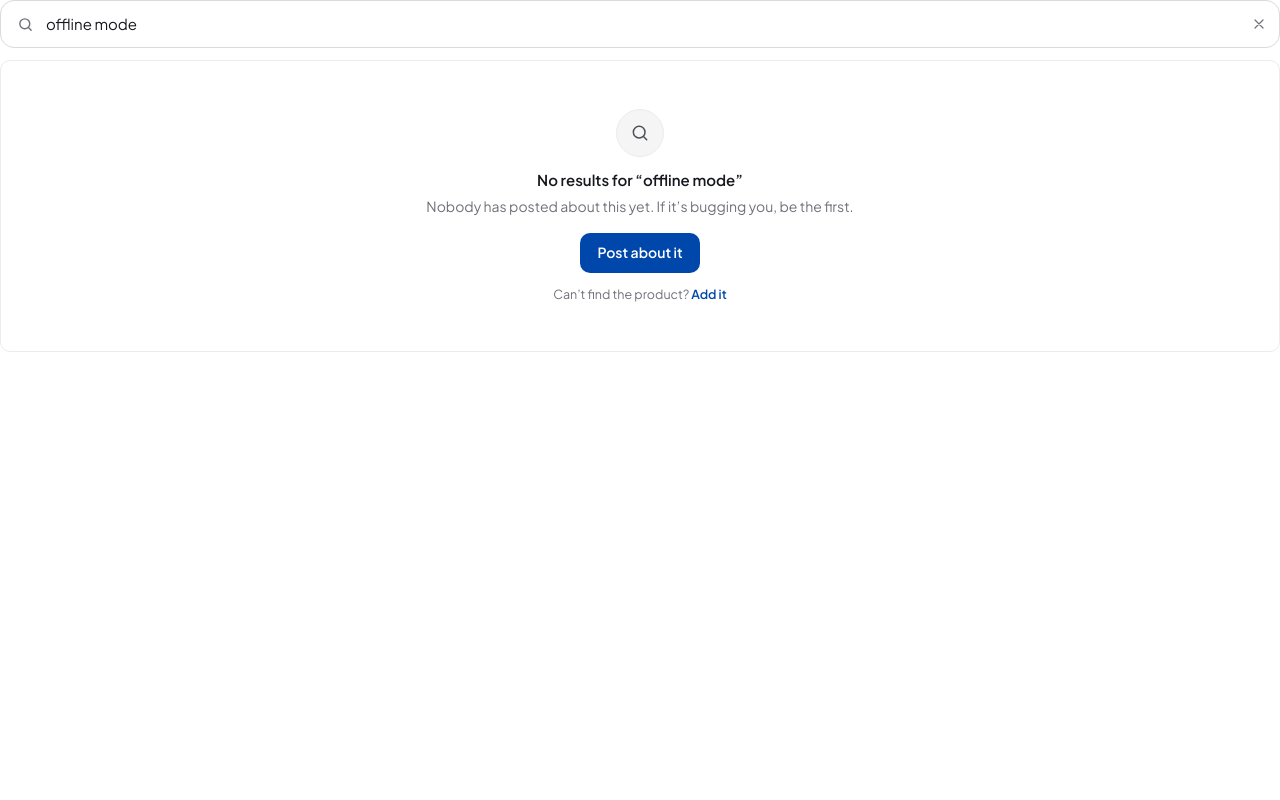
Test case: search › offers to post about a search with no results
The image size is (1280, 800).
Expected: the text "No results for “offline mode”" is shown, [537,169,743,192]
Click the button "Post about it".
click(640, 252)  # box [580,232,700,272]
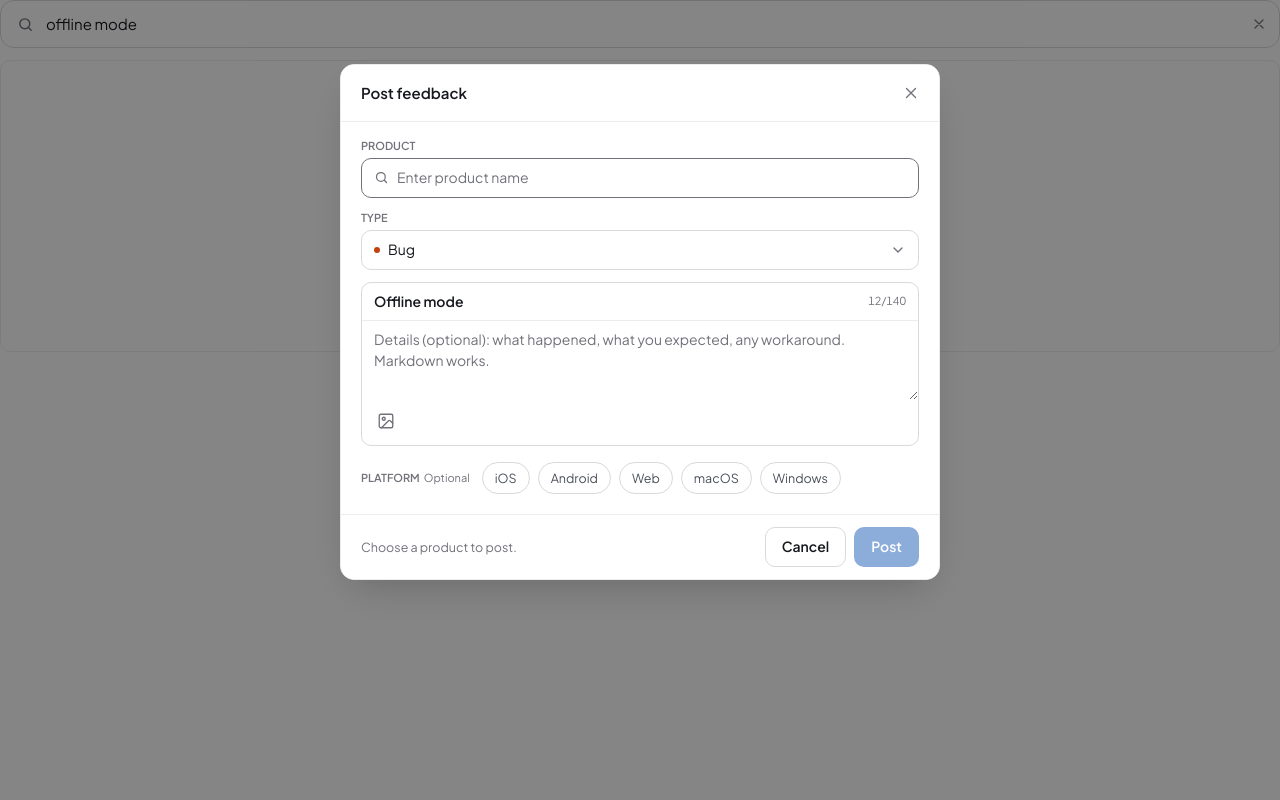
Result: the field named "Title" holds "Offline mode" at [362,283,868,320]
